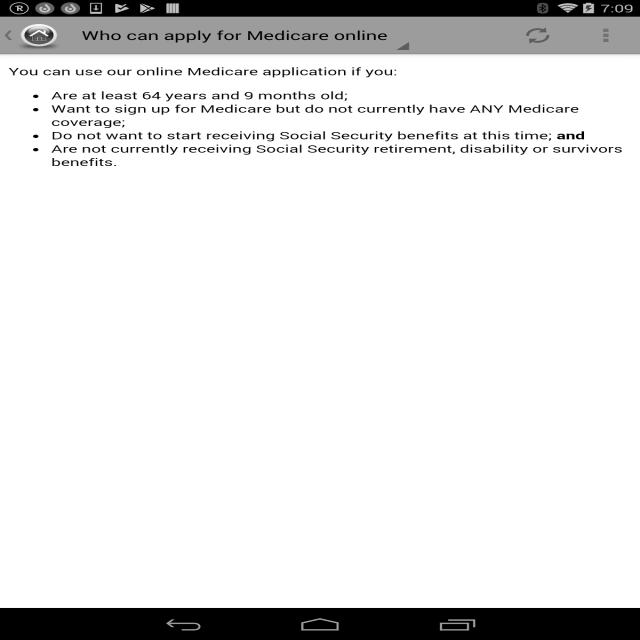ImageButton: (519, 22, 556, 46), (592, 24, 619, 45), (2, 27, 15, 44)
ImageView: (22, 23, 62, 47)
TextView: (46, 88, 626, 172), (73, 23, 401, 42), (6, 65, 403, 78)
